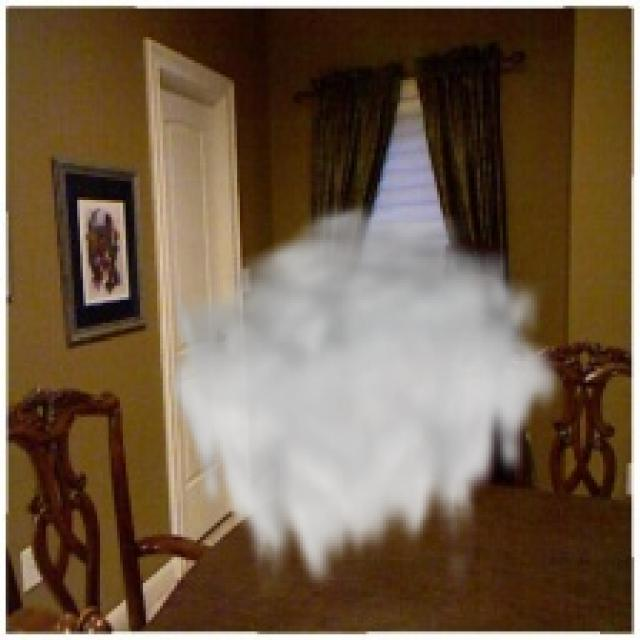smoke: (165, 197, 566, 600)
